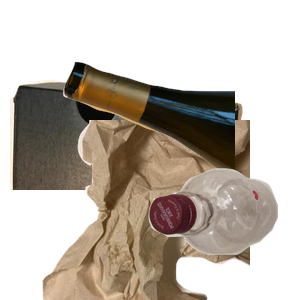cardboard: (10, 77, 245, 257)
glass: (60, 59, 300, 231)
plastic: (146, 166, 300, 300)
trash: (40, 120, 280, 300)
